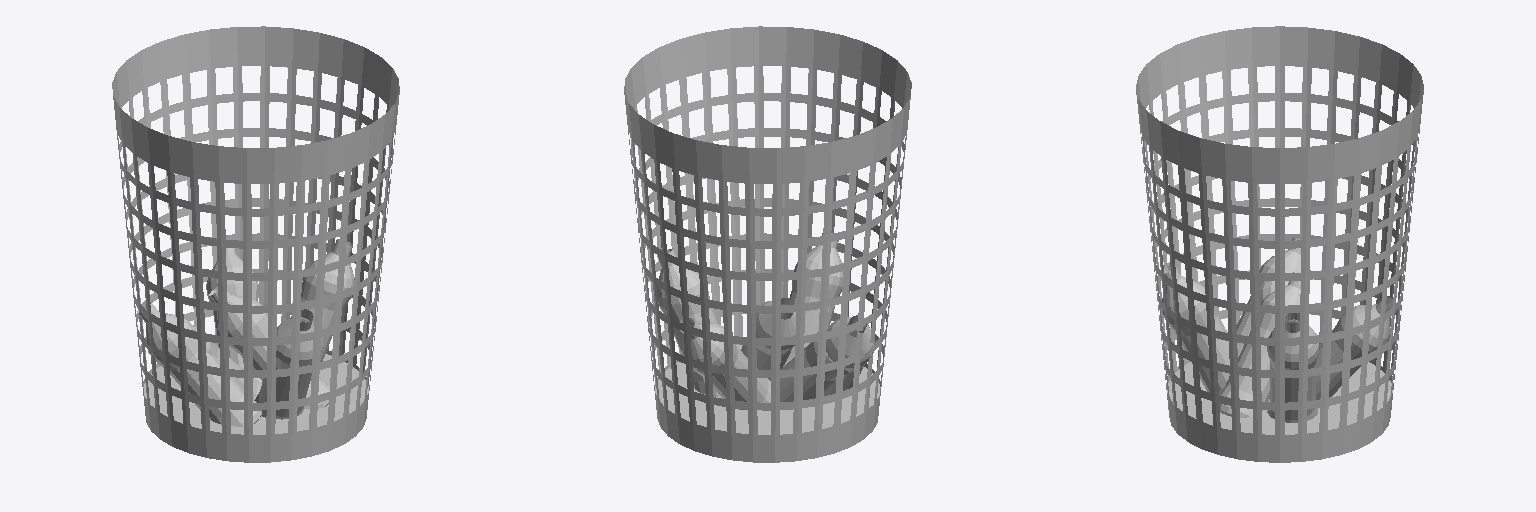
File: DustbinWithCan_000043.obj
The picture shows the model from 3 angles: view 1: azimuth 30°, elevation 25°; view 2: azimuth 150°, elevation 25°; view 3: azimuth 270°, elevation 25°; orthographic projection.
Visible parts, largest first — view 1: Cylinder, Plane.005, Plane.001, Plane.004, Plane.003, Plane.002; view 2: Cylinder, Plane.002, Plane.001, Plane.003, Plane.004, Plane.005, Plane.006; view 3: Cylinder, Plane.001, Plane.004, Plane.003, Plane.002, Plane.005.
Part boxes in pixels (bbox=[...]): Cylinder: bbox=[112, 26, 399, 462]; Plane.005: bbox=[137, 302, 261, 426]; Plane.001: bbox=[254, 309, 322, 419]; Plane.004: bbox=[209, 286, 329, 408]; Plane.003: bbox=[290, 239, 354, 361]; Plane.002: bbox=[206, 248, 261, 382]; Cylinder: bbox=[624, 26, 911, 462]; Plane.002: bbox=[680, 318, 770, 409]; Plane.001: bbox=[783, 233, 842, 366]; Plane.003: bbox=[657, 249, 720, 396]; Plane.004: bbox=[741, 298, 795, 378]; Plane.005: bbox=[824, 315, 874, 395]; Plane.006: bbox=[769, 324, 869, 401]; Cylinder: bbox=[1136, 26, 1423, 462]; Plane.001: bbox=[1162, 265, 1238, 393]; Plane.004: bbox=[1219, 272, 1300, 417]; Plane.003: bbox=[1267, 313, 1318, 422]; Plane.002: bbox=[1316, 296, 1392, 399]; Plane.005: bbox=[1237, 237, 1300, 354].
Bounding box in the file's own units: 2.6 × 3.36 × 2.6.